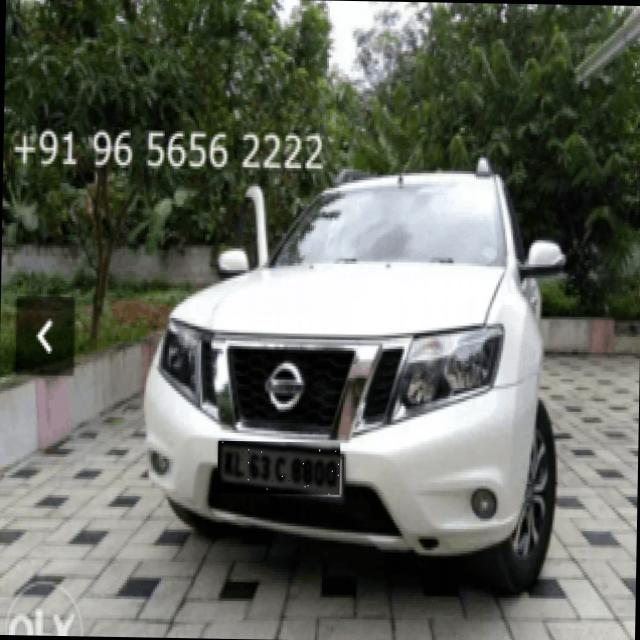Plate: (218, 442, 341, 496)
